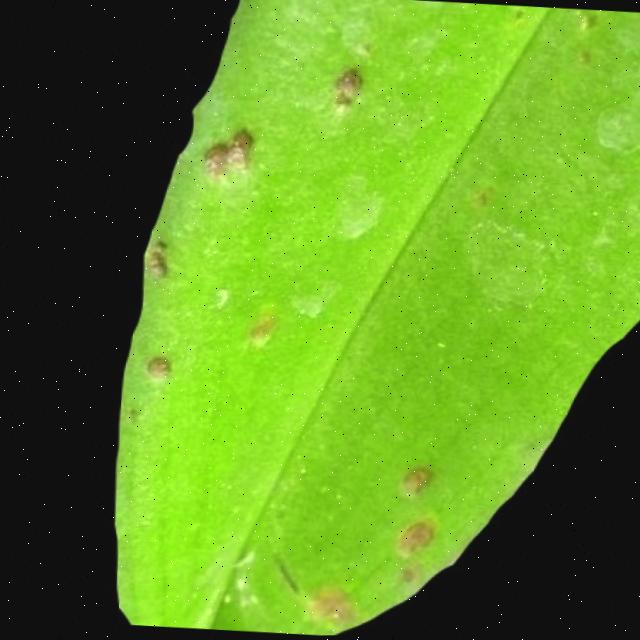mite: (301, 456, 442, 635), (388, 464, 438, 591), (317, 52, 380, 128), (392, 519, 434, 560), (396, 467, 433, 500), (393, 566, 415, 588)
spots: (104, 0, 640, 636)
sunburn: (196, 125, 258, 186), (325, 64, 367, 115)
